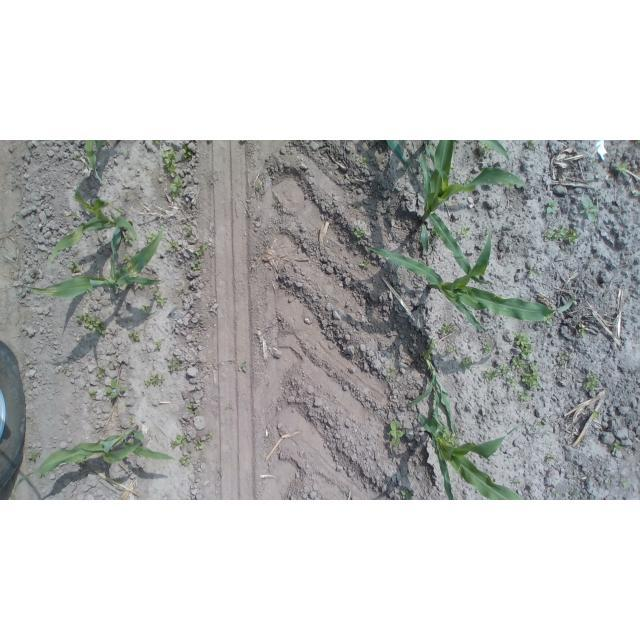Maize: (363, 228, 546, 339), (417, 140, 518, 280), (24, 219, 175, 304), (17, 426, 177, 495), (414, 411, 531, 500), (48, 185, 151, 264), (75, 140, 127, 182)
Weeds: (74, 311, 110, 337), (512, 332, 536, 358), (578, 198, 599, 222), (160, 151, 179, 176), (389, 419, 404, 447), (107, 379, 126, 399), (195, 432, 213, 453), (583, 372, 601, 393), (520, 371, 540, 389), (168, 178, 184, 198), (143, 374, 167, 387), (480, 367, 502, 381), (178, 451, 194, 470), (612, 157, 629, 174), (167, 357, 185, 373), (437, 322, 454, 338), (169, 432, 185, 449), (561, 229, 580, 243), (195, 242, 210, 259), (152, 290, 167, 306), (181, 145, 195, 162), (555, 350, 569, 367), (544, 225, 560, 239), (543, 199, 559, 213), (67, 261, 83, 275), (477, 142, 494, 155), (353, 225, 367, 240), (185, 401, 200, 415), (399, 488, 416, 500), (460, 355, 474, 369), (542, 314, 556, 328), (481, 342, 494, 357), (28, 452, 43, 465), (511, 355, 524, 370), (498, 362, 511, 376), (517, 390, 531, 403), (75, 457, 90, 469), (239, 361, 250, 377), (590, 409, 603, 422), (145, 232, 158, 245), (524, 358, 536, 372), (183, 225, 194, 240), (128, 330, 141, 342), (167, 238, 180, 250), (505, 375, 517, 388), (95, 367, 107, 379), (544, 452, 555, 465), (190, 260, 202, 271), (611, 440, 622, 452), (572, 490, 585, 500), (61, 365, 72, 376), (444, 343, 454, 354), (459, 227, 469, 238), (586, 258, 597, 268), (527, 268, 540, 276), (88, 388, 98, 398), (619, 477, 629, 487), (578, 326, 587, 337), (387, 370, 398, 379), (510, 478, 521, 487), (533, 420, 544, 429), (631, 189, 640, 200), (124, 235, 135, 244), (525, 140, 537, 148), (224, 403, 236, 411), (358, 156, 368, 165), (154, 341, 163, 351), (140, 306, 149, 315), (358, 260, 366, 269), (272, 200, 280, 209), (71, 212, 79, 219), (317, 198, 323, 206), (353, 203, 360, 209), (254, 183, 260, 189), (632, 141, 640, 145)
